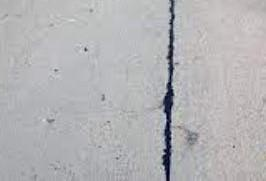crack: (161, 0, 180, 181)
